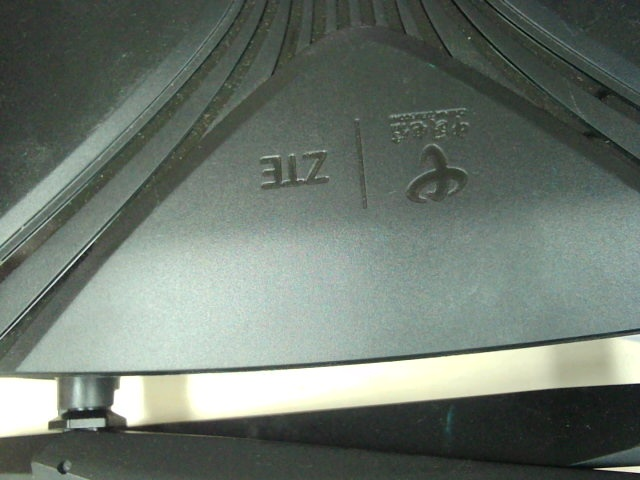AX_ZTEChinaTelecom: (259, 107, 470, 211)
